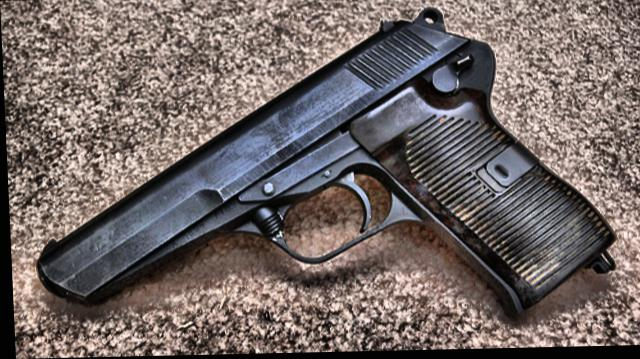pistol: (23, 8, 619, 309)
